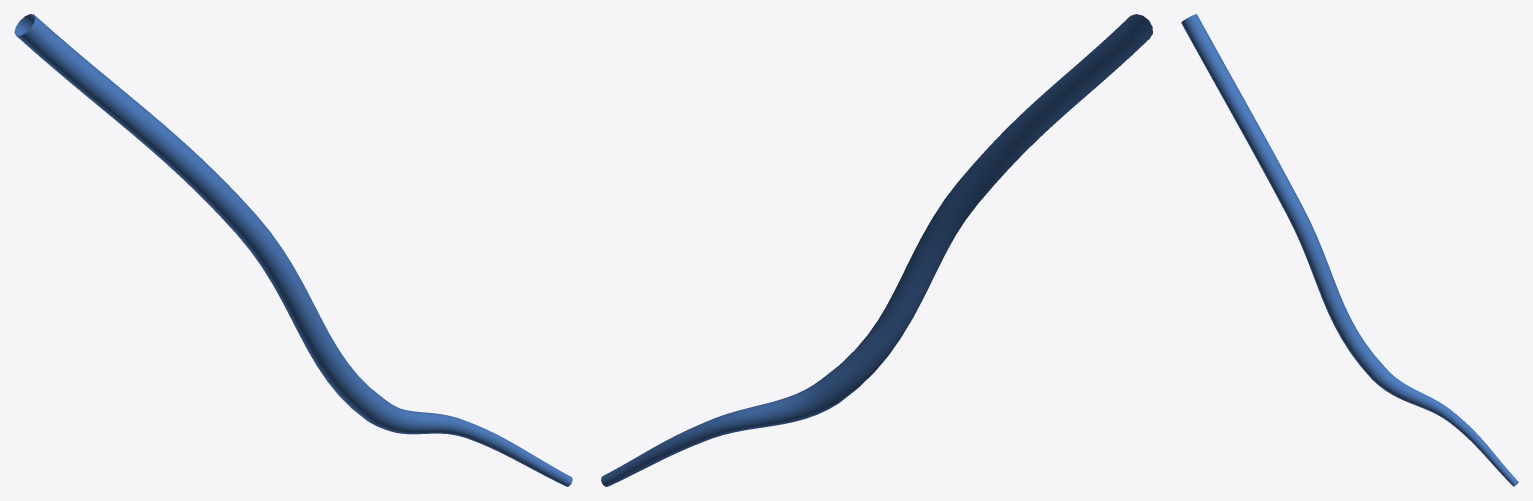
3 renders of one model, left to right at view 1: azimuth 30°, elevation 25°; view 2: azimuth 150°, elevation 25°; view 3: azimuth 330°, elevation 25°, orthographic. The views are drawn at different scales.
Visible parts, largest first — view 1: 右侧上唇静脉; view 2: 右侧上唇静脉; view 3: 右侧上唇静脉.
Part boxes in pixels (x1,y1,x2,y2): 右侧上唇静脉: (14, 14, 572, 486); 右侧上唇静脉: (601, 14, 1152, 486); 右侧上唇静脉: (1181, 14, 1518, 486).
Bounding box in the file's own units: 0.0326 × 0.0338 × 0.0051.
